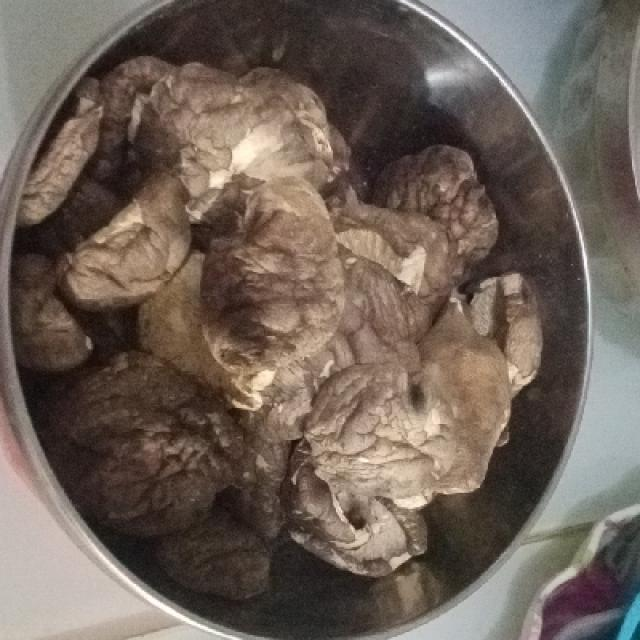Lentinus edodes: (26, 55, 545, 585)
